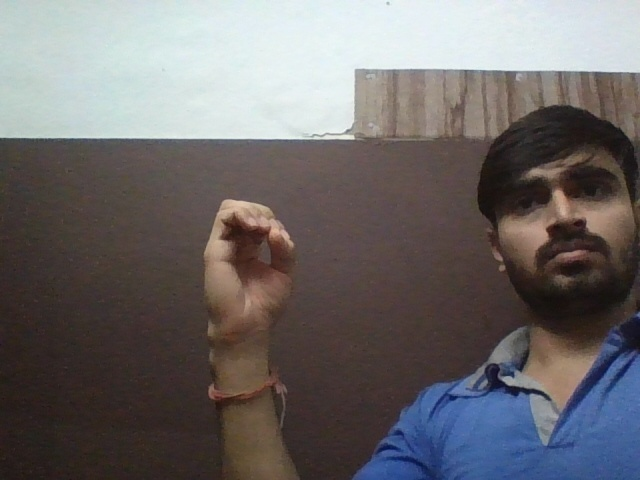O: (193, 193, 302, 356)
